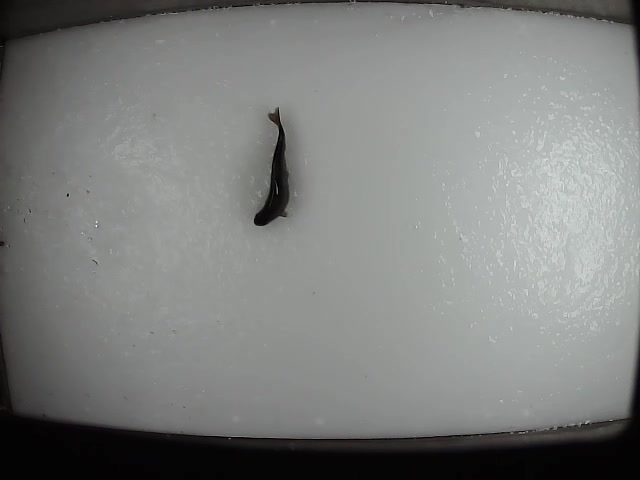Fish: (253, 107, 289, 227)
